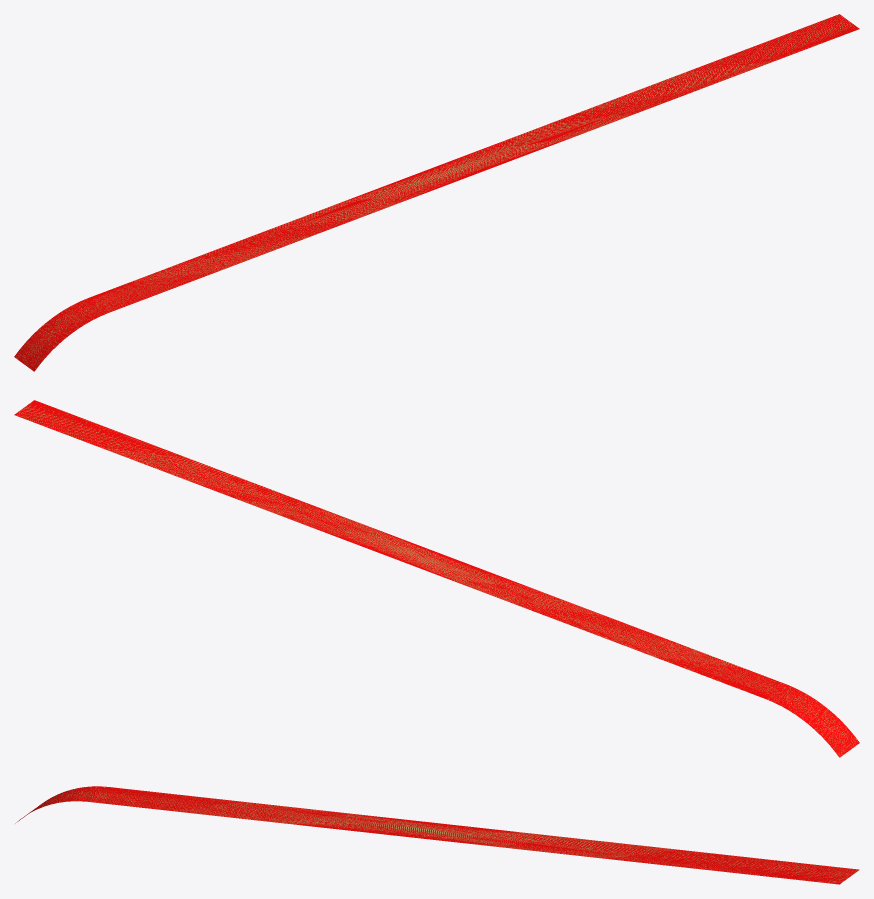
Rendered from original-51.obj.
3 views of the same model, one above another, from view 1: azimuth 30°, elevation 25°; view 2: azimuth 150°, elevation 25°; view 3: azimuth 330°, elevation 25° (orthographic).
Visible parts, largest first — view 1: Group2/mesh1/mesh1-geometry/material_3/component_1#mesh1-geometr; view 2: Group2/mesh1/mesh1-geometry/material_3/component_1#mesh1-geometr; view 3: Group2/mesh1/mesh1-geometry/material_3/component_1#mesh1-geometr.
Boxes of the visible parts, left/top/right/bottom form: Group2/mesh1/mesh1-geometry/material_3/component_1#mesh1-geometr: left=14, top=14, right=859, bottom=371; Group2/mesh1/mesh1-geometry/material_3/component_1#mesh1-geometr: left=14, top=400, right=859, bottom=757; Group2/mesh1/mesh1-geometry/material_3/component_1#mesh1-geometr: left=15, top=786, right=859, bottom=884.
Bounding box in the file's own units: 0.4353 × 0.0713 × 0.0186.
